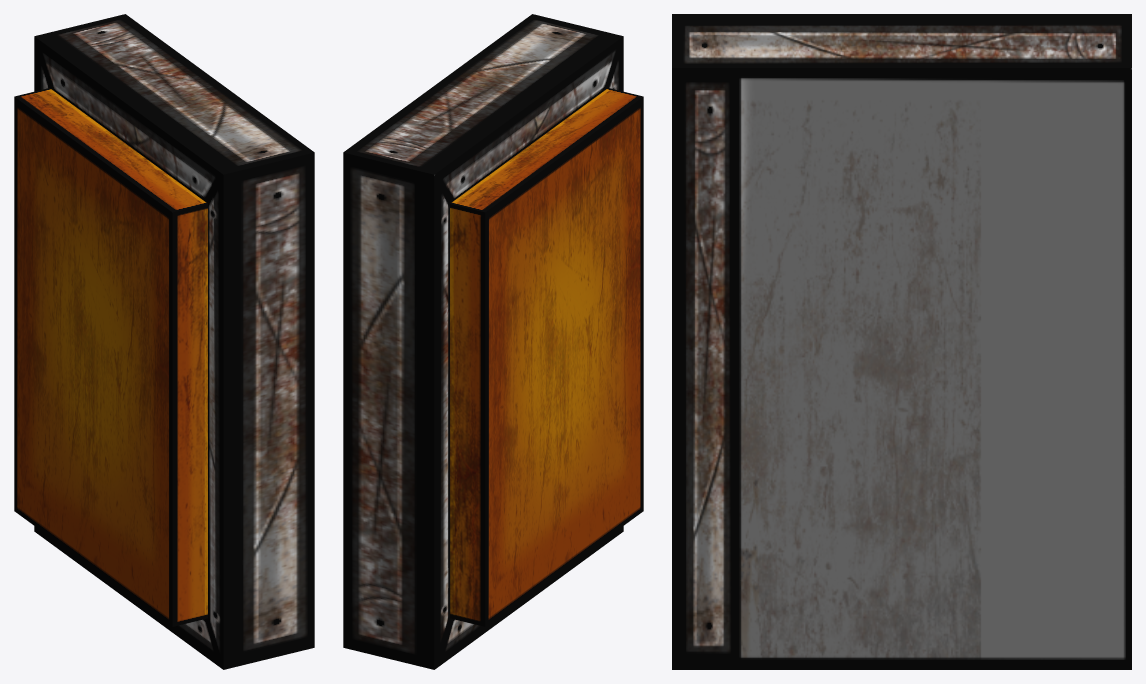
File: knop niet ingedrukt.fbx
3 views of the same model, side by side, from view 1: azimuth 30°, elevation 25°; view 2: azimuth 150°, elevation 25°; view 3: azimuth 270°, elevation 25° (orthographic). The views are drawn at different scales.
Visible parts, largest first — view 1: polySurface4, polySurface3; view 2: polySurface4, polySurface3; view 3: polySurface3.
Part boxes in pixels (box(x1,y1,x2,y2)): polySurface4: box(14, 88, 207, 626); polySurface3: box(34, 14, 314, 669); polySurface4: box(450, 88, 643, 626); polySurface3: box(343, 14, 623, 669); polySurface3: box(672, 14, 1131, 669).
Size of the model in its own units: 0.194 by 0.7243 by 0.5017.
